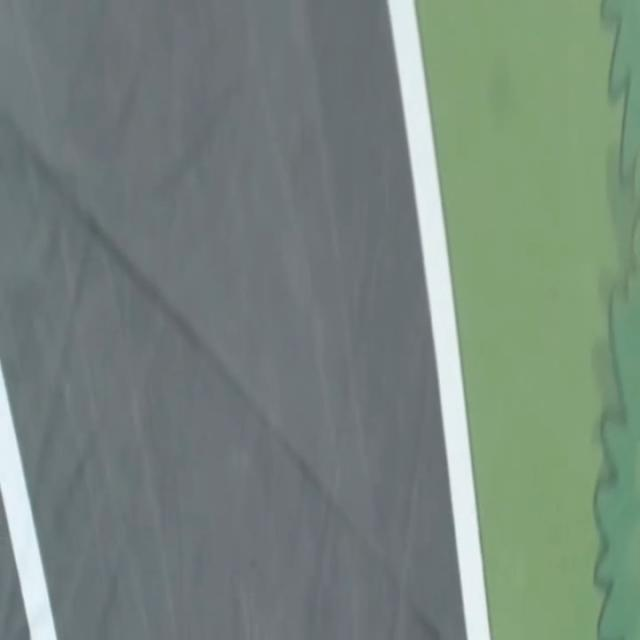right: (388, 0, 490, 639)
